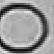no answer: (0, 2, 50, 54)
